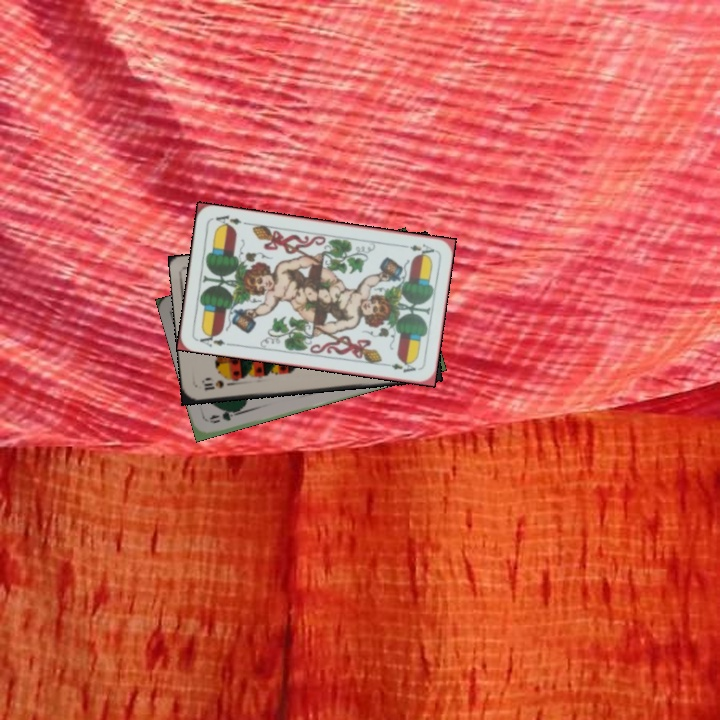EA: (193, 329, 234, 350), (397, 240, 437, 259)
GO: (205, 404, 246, 426)
S10: (198, 376, 236, 393)
